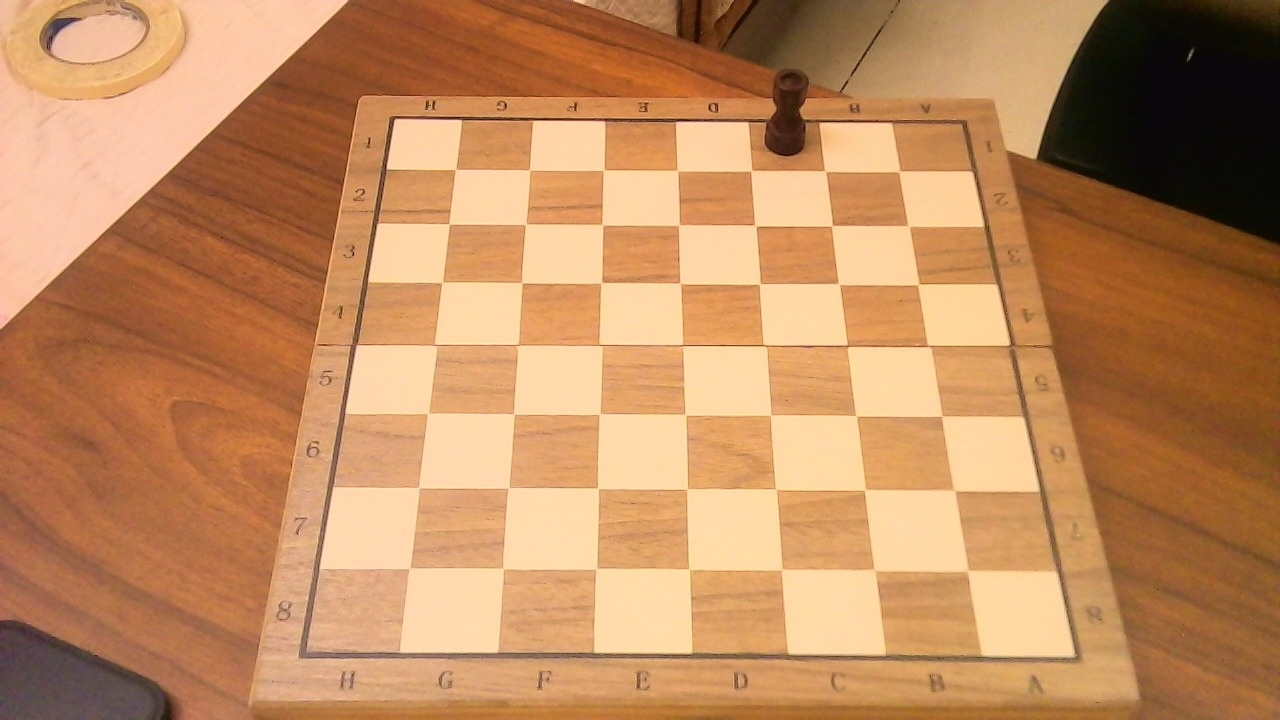r: (757, 56, 818, 158)
